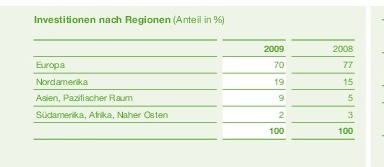table: (0, 0, 384, 167)
